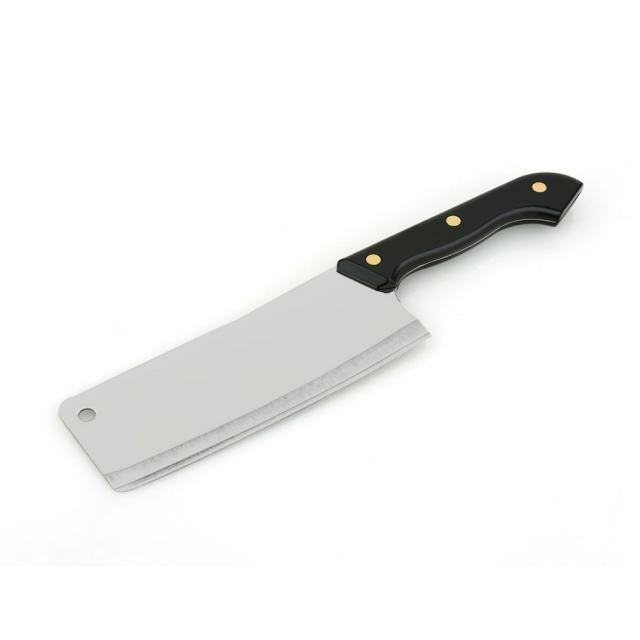cleaver: (42, 163, 605, 501)
